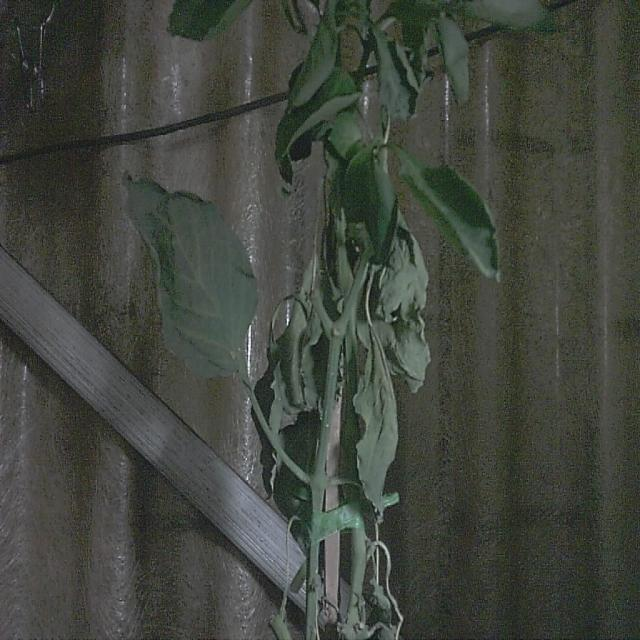Leaf: (124, 174, 255, 379), (400, 152, 502, 283), (352, 333, 397, 522)
